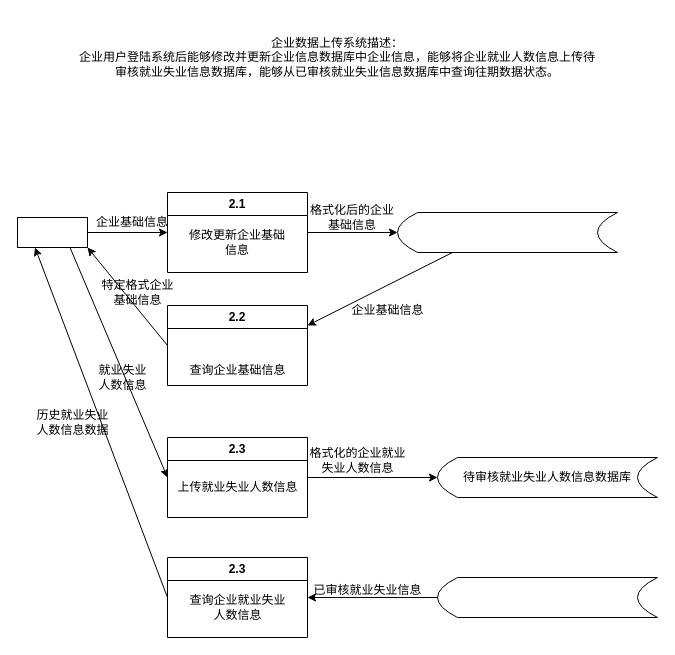
This 675x655 diagram has some shape labels left out. The shapes that lost their labels are listed below. From the top down, each one's centre as x and y in pixels, then its label:
the point at 52,232: 企业用户
the point at 507,232: 企业信息数据库
the point at 547,597: 已审核就业失业人数信息数据库
